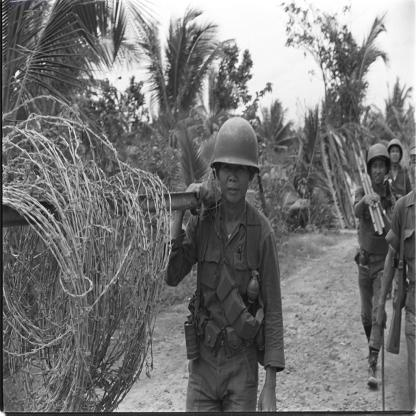Helmet: (211, 117, 261, 176), (365, 139, 390, 169), (388, 139, 406, 165)
